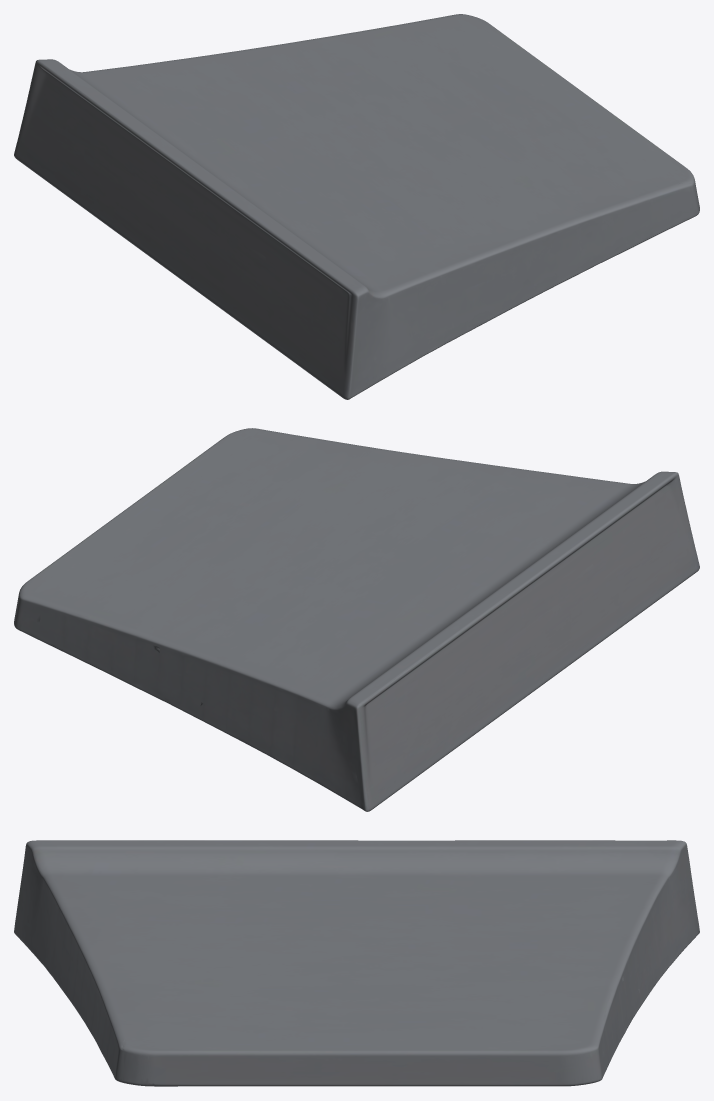
File: BP-UT10.meshopt.glb
3 renders of one model, top to bottom at view 1: azimuth 30°, elevation 25°; view 2: azimuth 150°, elevation 25°; view 3: azimuth 270°, elevation 25°, orthographic. The views are drawn at different scales.
Visible parts, largest first — view 1: node_0.004; view 2: node_0.004; view 3: node_0.004.
Boxes of the visible parts, x1,y1,x2,y2 form: node_0.004: (14, 14, 699, 399); node_0.004: (14, 428, 699, 811); node_0.004: (14, 840, 699, 1086).
Size of the model in its own units: 0.3 by 0.069 by 0.4201.
1 material, 1 textured.
